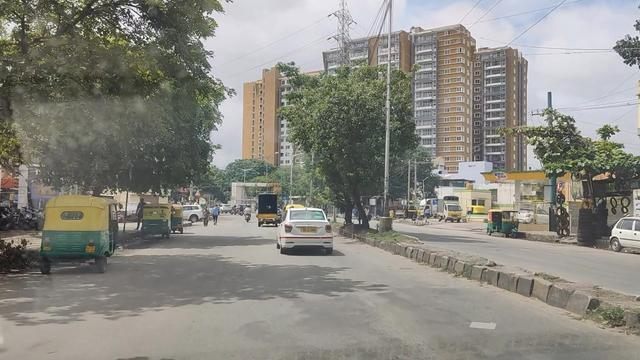LMV: (41, 187, 126, 265), (271, 205, 339, 259)
RoadDamages: (404, 311, 517, 344)
